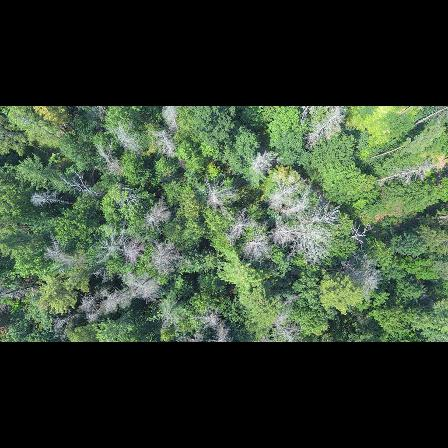Dead: (273, 225, 329, 264), (369, 157, 437, 185), (306, 106, 348, 147), (42, 242, 101, 270), (342, 258, 381, 298), (196, 174, 238, 210), (144, 240, 189, 273), (89, 286, 132, 318), (268, 175, 301, 212), (241, 229, 273, 264), (61, 173, 104, 198), (267, 315, 304, 342), (92, 142, 122, 175), (142, 197, 172, 228), (113, 120, 140, 154), (227, 206, 251, 244), (298, 212, 346, 231), (77, 282, 109, 310), (150, 129, 179, 159), (100, 229, 125, 262), (30, 189, 78, 206), (124, 234, 147, 268), (194, 305, 227, 327), (413, 107, 448, 126), (348, 218, 372, 245), (282, 195, 307, 220), (53, 312, 77, 338), (133, 273, 157, 292), (210, 321, 231, 342)
